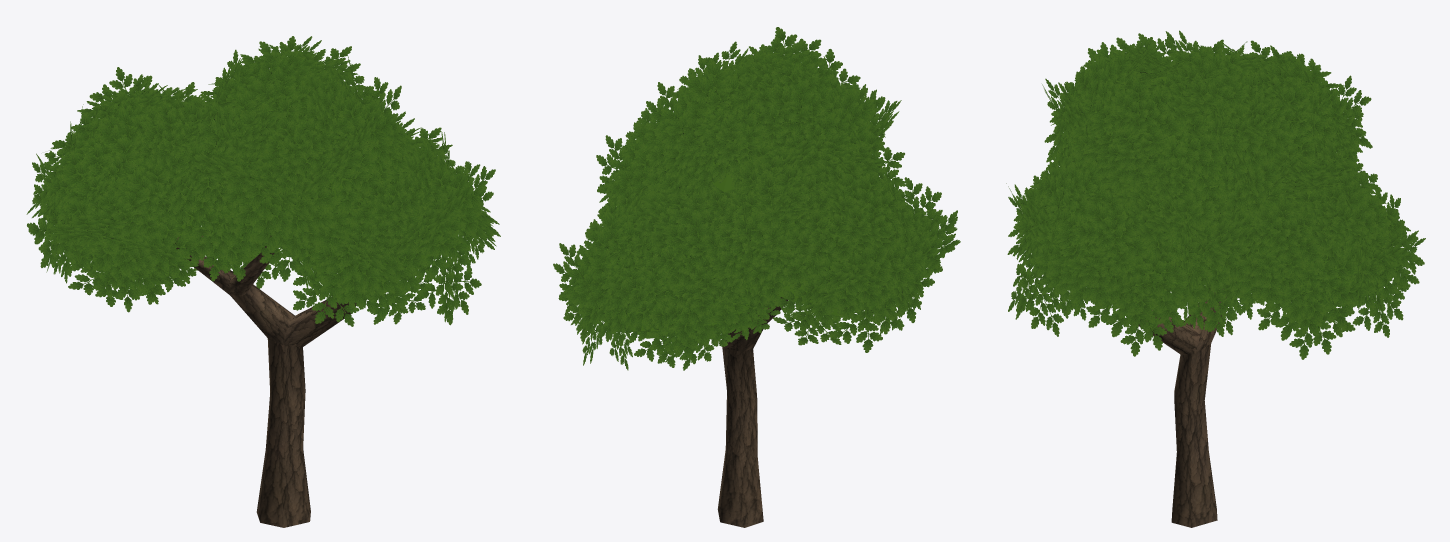
File: Oak02.fbx
3 views of the same model, side by side, from view 1: azimuth 30°, elevation 25°; view 2: azimuth 150°, elevation 25°; view 3: azimuth 270°, elevation 25° (orthographic). The views are drawn at different scales.
Parts seen in each view (by area): view 1: Oak02_LOD0; view 2: Oak02_LOD0; view 3: Oak02_LOD0.
Part boxes in pixels (box(x1,y1,x2,y2)): Oak02_LOD0: box(26, 36, 500, 527); Oak02_LOD0: box(553, 27, 960, 527); Oak02_LOD0: box(1006, 30, 1425, 527).
Size of what is drawn, in the model's own units: 6.43 by 7.08 by 5.94.
